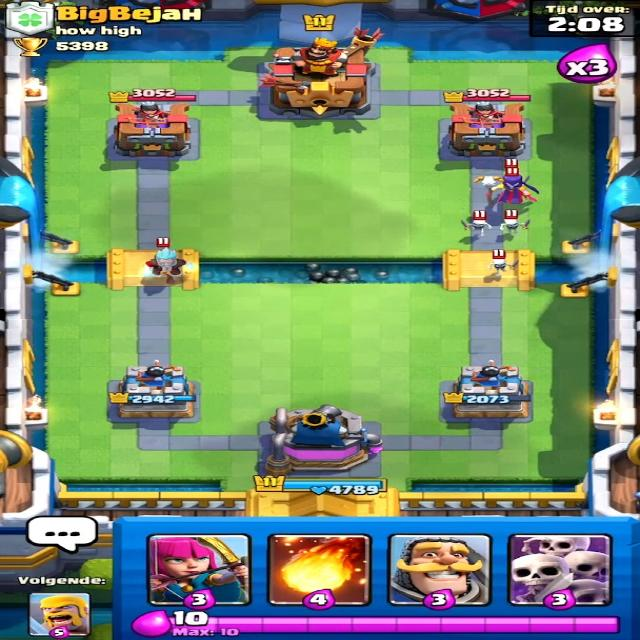Enemy_Ice_Wizard_Troop: (138, 247, 195, 293)
Enemy_Skeleton_Troop: (477, 250, 513, 280), (494, 210, 532, 238), (459, 212, 495, 240)
Enemy_Witch_Troop: (468, 170, 537, 210)
Fireball_Card: (267, 533, 370, 608)
